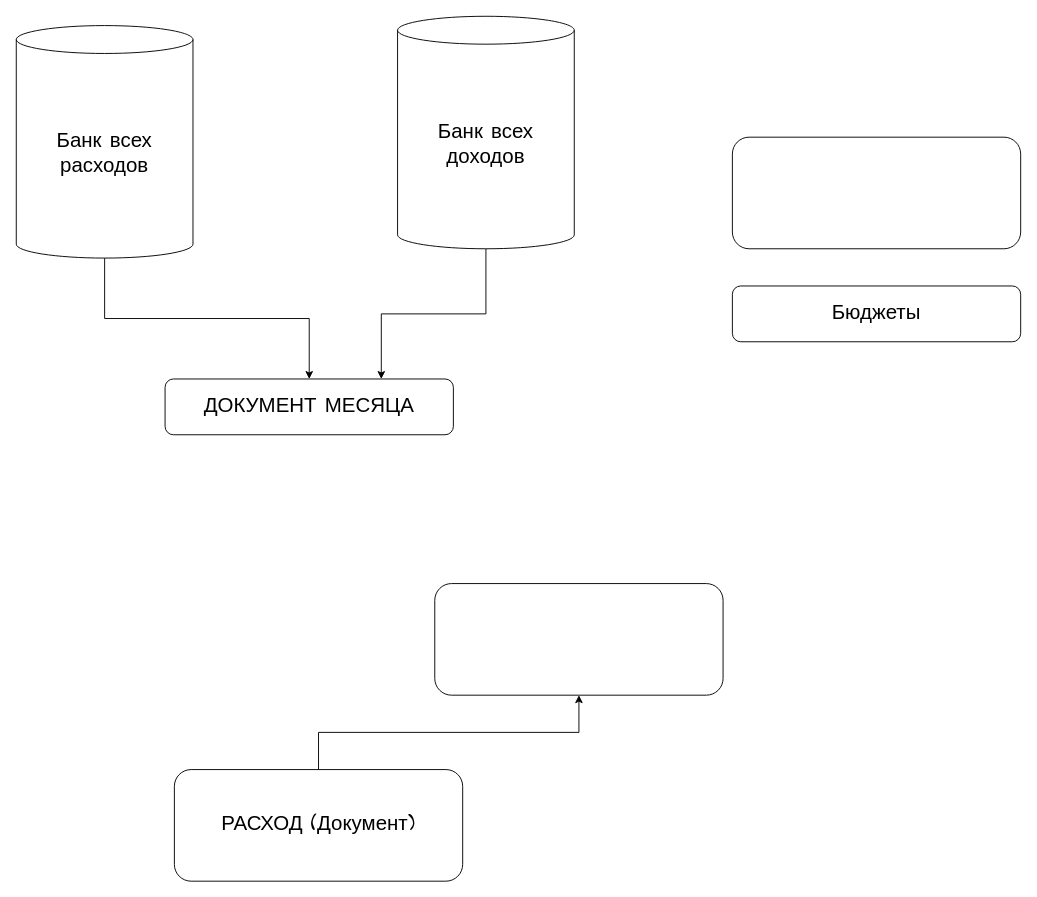
This 1037x897 diagram has some shape labels left out. The centre of each missing label's shape, as x and y in pixels:
"ИСТОЧНИК ФИНАНСИРОВАНИЯ" belongs at point (578, 639).
"Счета (источники средств для расходов)" belongs at point (876, 192).
